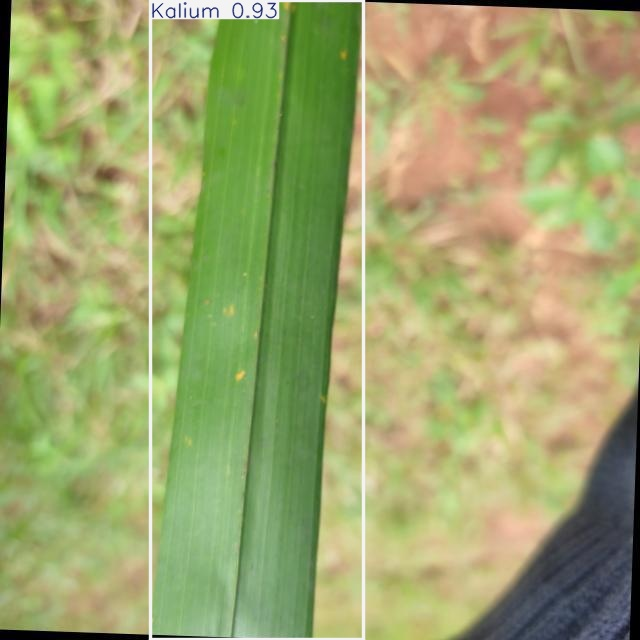Kalium: (150, 0, 364, 640)
